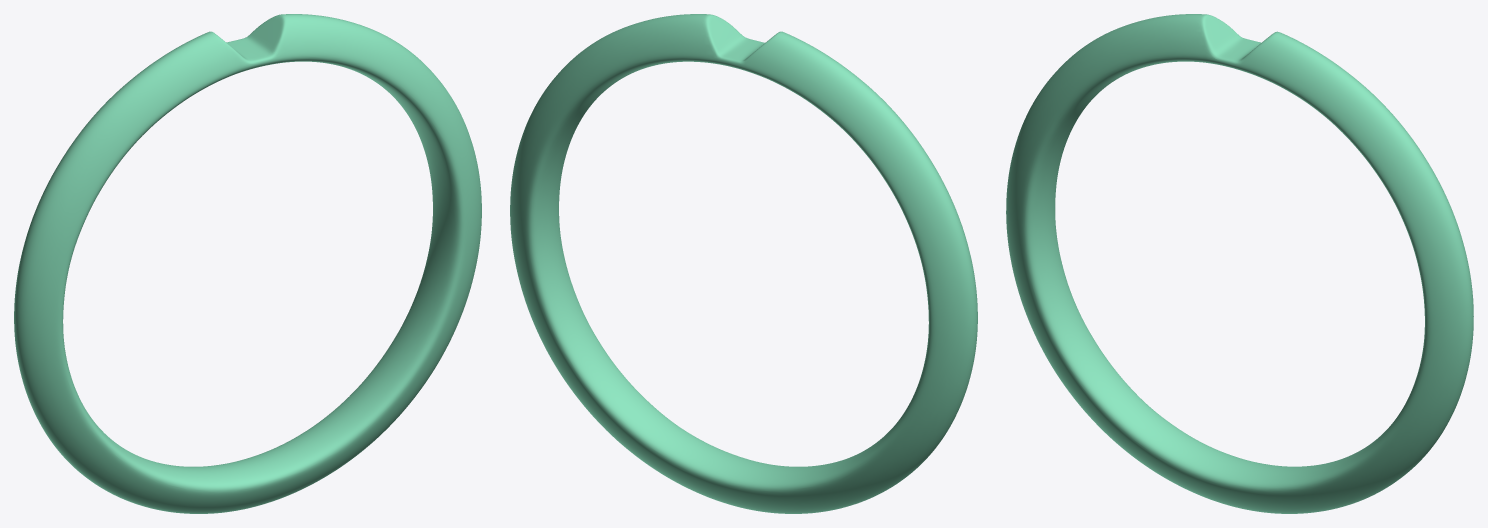
3 renders of one model, left to right at view 1: azimuth 30°, elevation 25°; view 2: azimuth 150°, elevation 25°; view 3: azimuth 330°, elevation 25°, orthographic.
Visible parts, largest first — view 1: Metal02; view 2: Metal02; view 3: Metal02.
Boxes of the visible parts, x1,y1,x2,y2 form: Metal02: (14, 14, 481, 513); Metal02: (510, 14, 977, 513); Metal02: (1006, 14, 1473, 513).
Size of the model in its own units: 20.9 by 20.77 by 2.18.
